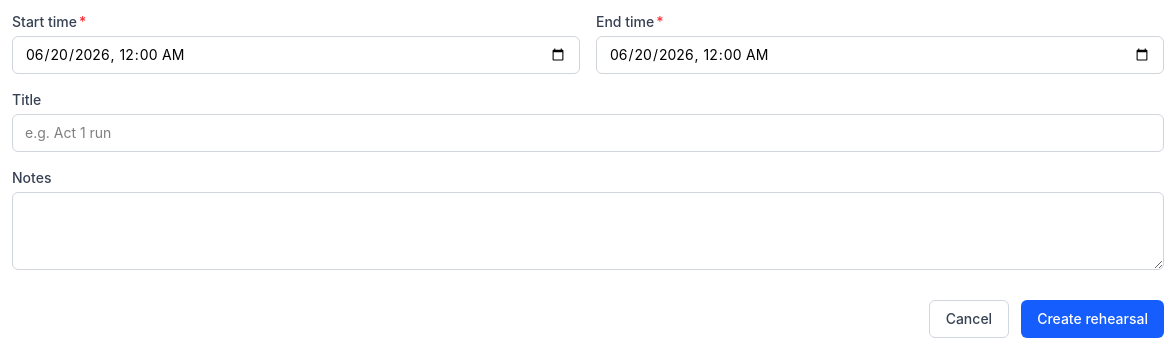
Test: RehearsalForm — time validation › auto-bumps end time to match start time when start time moves later than end time
Replace the text in the field below "Start time" with "2026-06-20T19:00" at x=296, y=55, box [12,36,580,74]
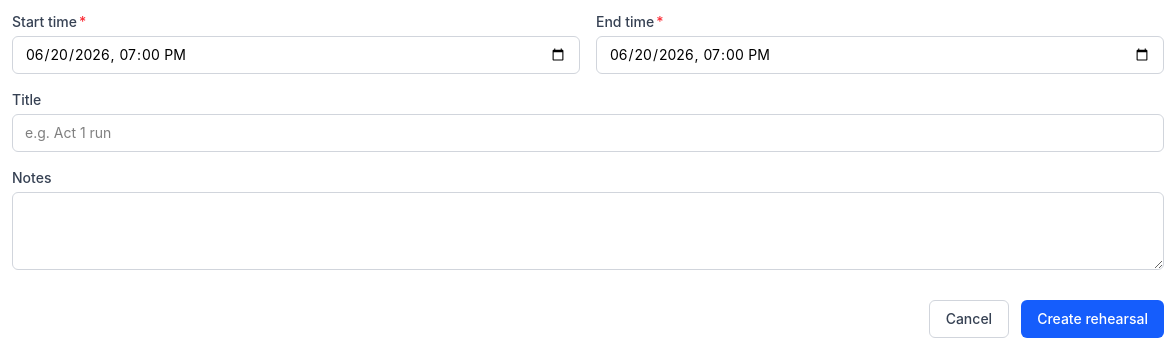
Replace the text in the field below "End time" with "2026-06-20T21:00" at x=880, y=55, box [596,36,1164,74]
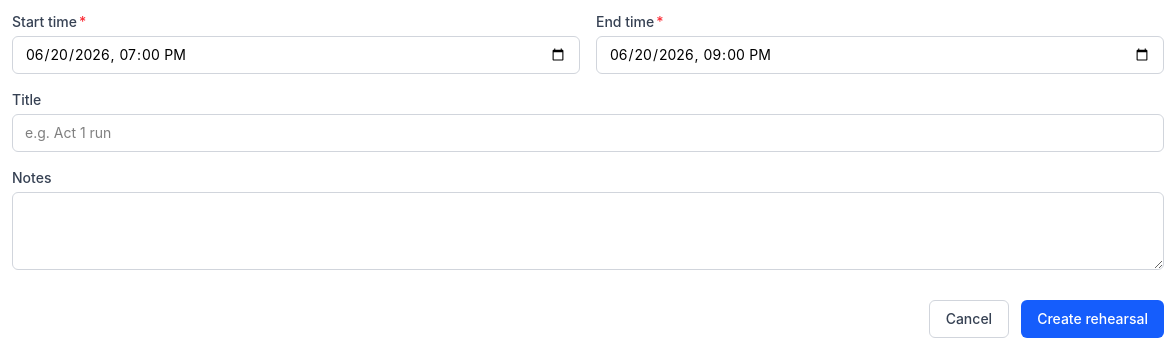
Replace the text in the field below "Start time" with "2026-06-20T22:00" at x=296, y=55, box [12,36,580,74]
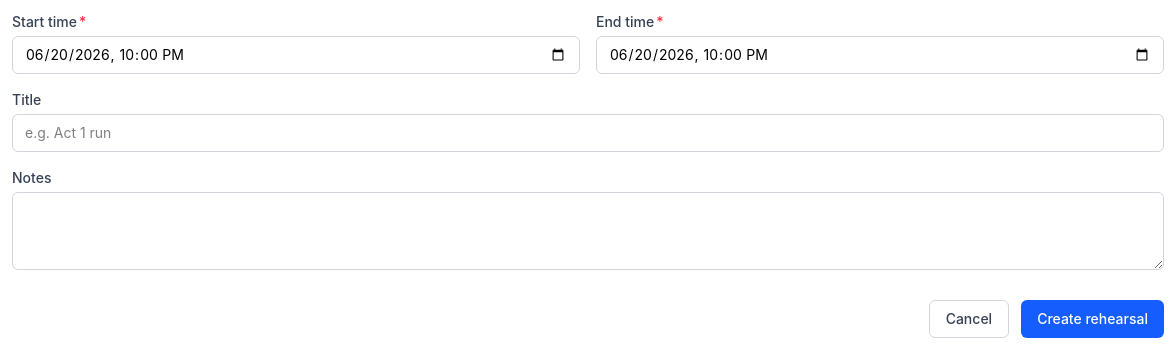
expect the field below "End time" holds "2026-06-20T22:00": met, box [596,36,1164,74]
